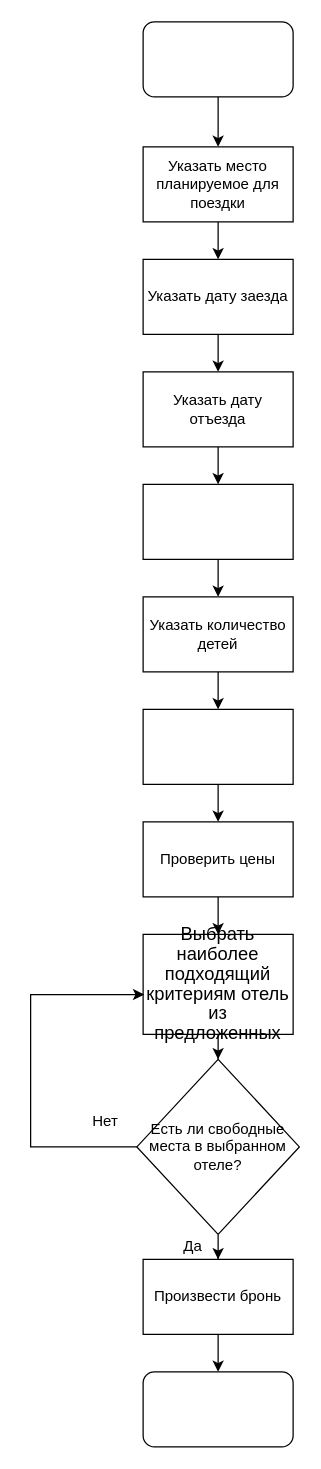
This 321x1469 diagram has some shape labels left out. Here are the shapes that lost their labels. From the top down, the centre of each, then its label:
At point 217,59: "Начало".
At point 217,521: "Указать количество взрослых".
At point 217,746: "Указать количество номеров".
At point 217,1409: "Конец".
